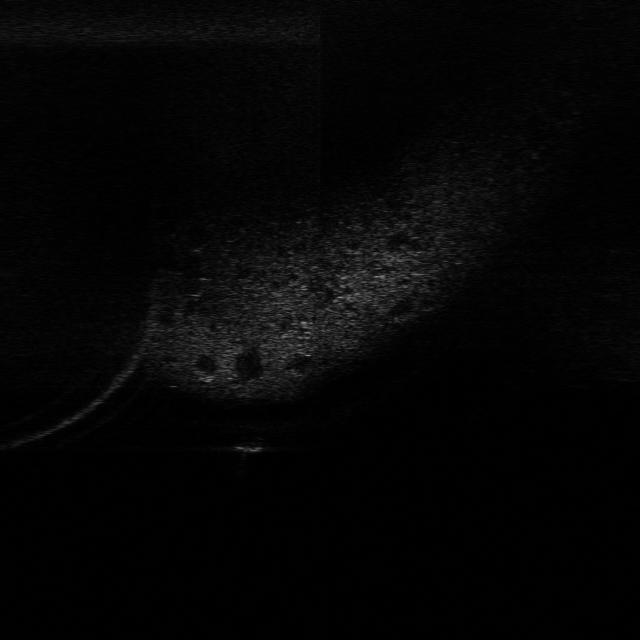cube: (227, 430, 269, 457)
